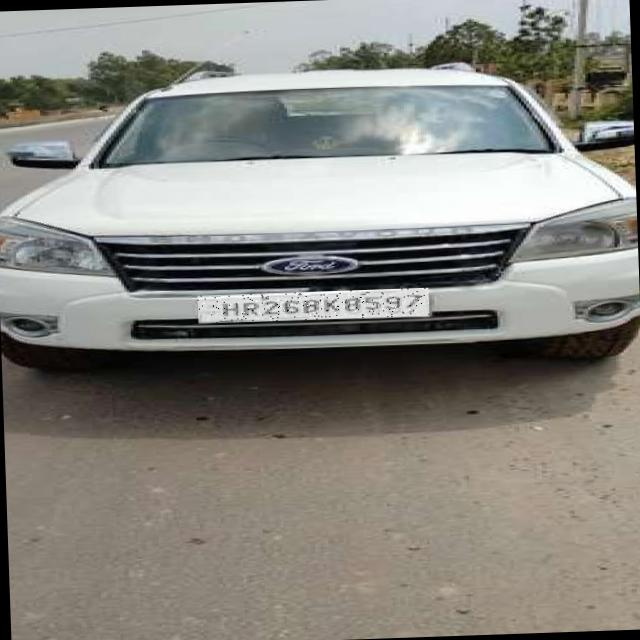Plate: (198, 288, 430, 324)
